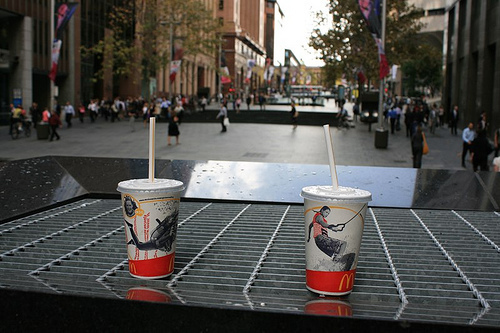litter: (301, 123, 371, 294), (118, 115, 181, 279)
